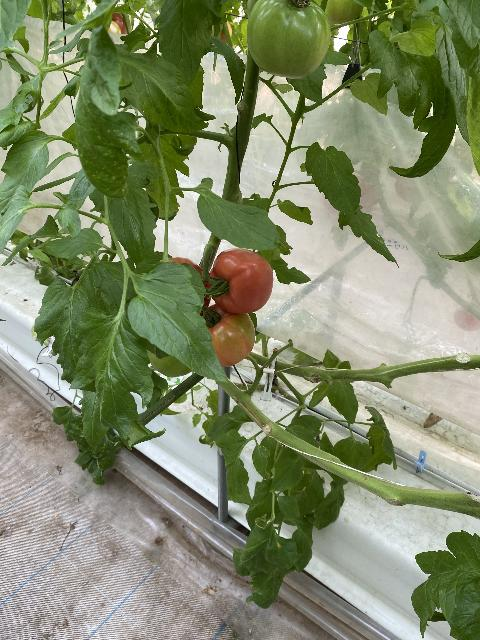b_fully_ripened: (208, 247, 273, 314)
b_green: (246, 0, 331, 79), (311, 0, 364, 25)
b_half_ripened: (201, 303, 256, 367)
